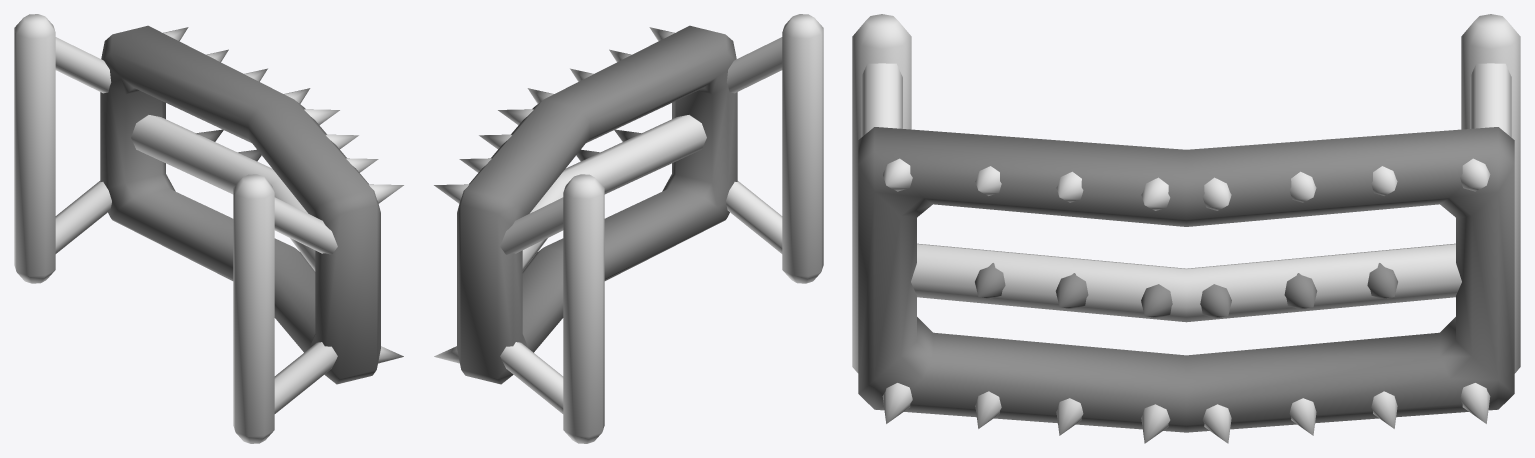
File: bumper_metal_spike.fbx
3 renders of one model, left to right at view 1: azimuth 30°, elevation 25°; view 2: azimuth 150°, elevation 25°; view 3: azimuth 270°, elevation 25°, orthographic. The views are drawn at different scales.
Visible parts, largest first — view 1: bumper_metal_spike; view 2: bumper_metal_spike; view 3: bumper_metal_spike.
Boxes of the visible parts, left/top/right/bottom form: bumper_metal_spike: left=14, top=14, right=403, bottom=443; bumper_metal_spike: left=434, top=14, right=823, bottom=443; bumper_metal_spike: left=852, top=14, right=1520, bottom=443.
Bounding box in the file's own units: 91.04 × 113 × 190.
